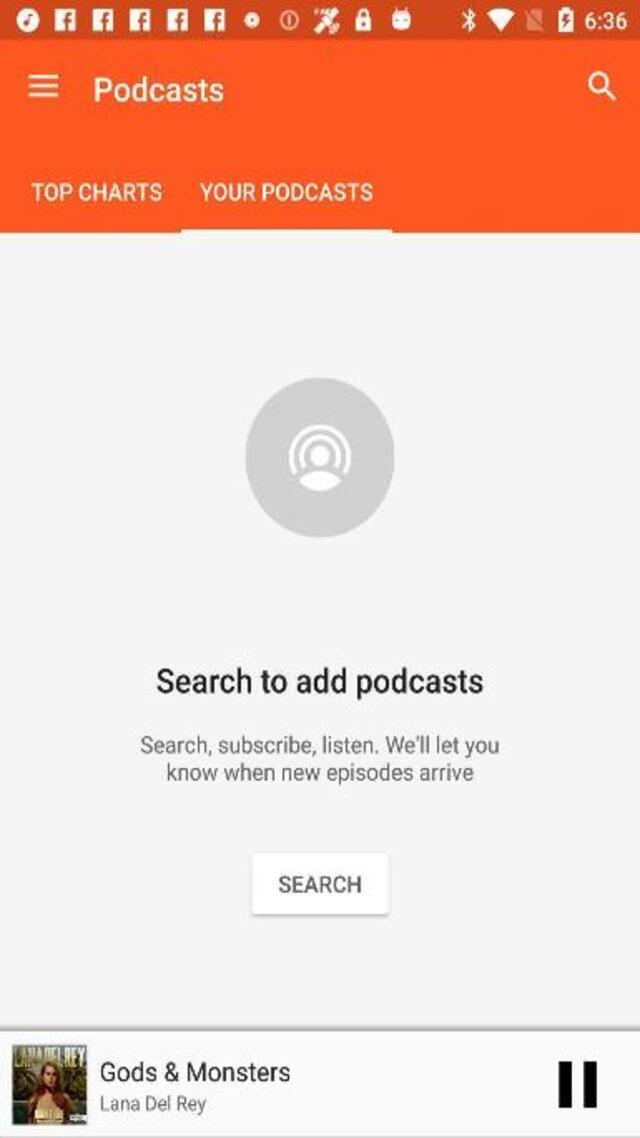Icon: (560, 1060, 598, 1108), (588, 70, 616, 100), (27, 74, 59, 97)
Image: (246, 377, 396, 537), (12, 1044, 88, 1124)
Text: (156, 666, 482, 700), (140, 733, 502, 759), (160, 761, 477, 786), (100, 1060, 290, 1081), (200, 182, 372, 202), (94, 76, 224, 102), (276, 870, 368, 898), (31, 183, 162, 201), (100, 1094, 206, 1114)
TextButton: (250, 853, 388, 914)
